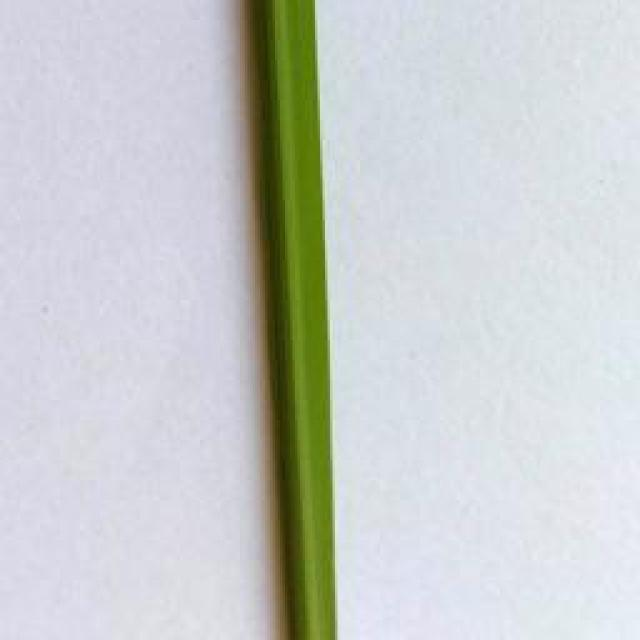Healthy-Plant: (249, 0, 334, 640)
